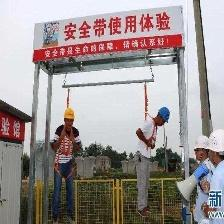Person: (135, 99, 169, 215), (50, 108, 80, 224)
helmet: (157, 106, 172, 124), (62, 108, 76, 121)
no-vest: (137, 118, 162, 164), (55, 124, 79, 170)
